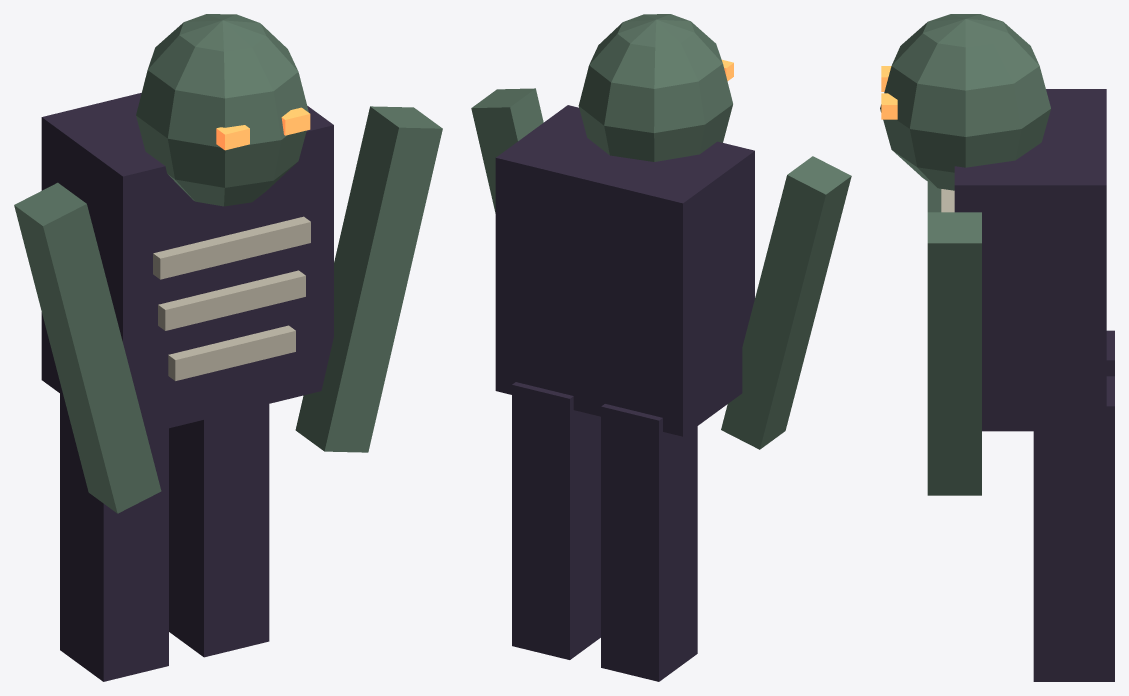
The model's file is arpg.hollow.glb.
The picture shows the model from 3 angles, left to right: view 1: azimuth 30°, elevation 25°; view 2: azimuth 150°, elevation 25°; view 3: azimuth 270°, elevation 25°; orthographic projection. The views are drawn at different scales.
Parts seen in each view (by area): view 1: hollow_body, hollow_arms, hollow_legs, hollow_head, hollow_ribs; view 2: hollow_body, hollow_legs, hollow_arms, hollow_head; view 3: hollow_body, hollow_head, hollow_legs, hollow_arms.
Boxes of the visible parts, x1=… form: hollow_body: x1=41, y1=93, x2=333, y2=433; hollow_arms: x1=14, y1=106, x2=442, y2=513; hollow_legs: x1=60, y1=394, x2=269, y2=681; hollow_head: x1=136, y1=14, x2=310, y2=206; hollow_ribs: x1=153, y1=216, x2=310, y2=380; hollow_body: x1=495, y1=105, x2=754, y2=436; hollow_legs: x1=512, y1=382, x2=697, y2=681; hollow_arms: x1=471, y1=88, x2=851, y2=449; hollow_head: x1=578, y1=14, x2=733, y2=161; hollow_body: x1=954, y1=89, x2=1106, y2=431; hollow_head: x1=880, y1=14, x2=1050, y2=190; hollow_legs: x1=1033, y1=330, x2=1114, y2=681; hollow_arms: x1=927, y1=182, x2=981, y2=495.
Size of the model in its own units: 0.7956 by 1.27 by 0.4326.
